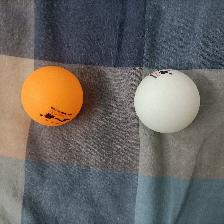WhiteBall: (133, 68, 200, 133)
YellowBall: (20, 64, 83, 126)
